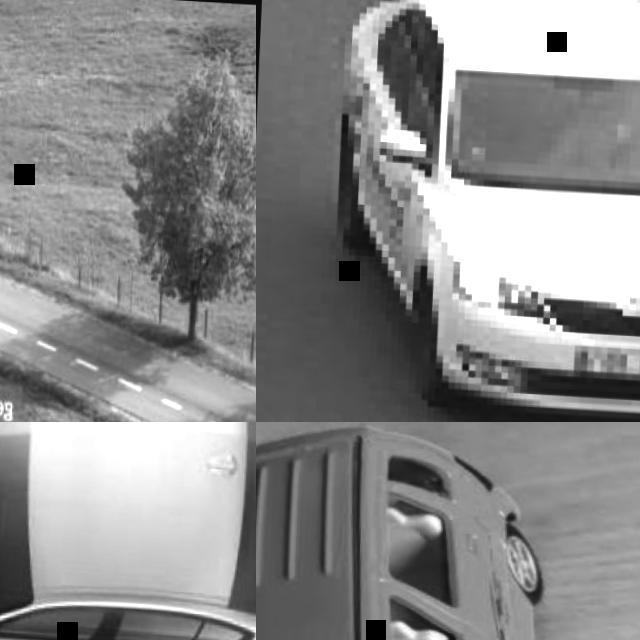car: (342, 0, 639, 410)
